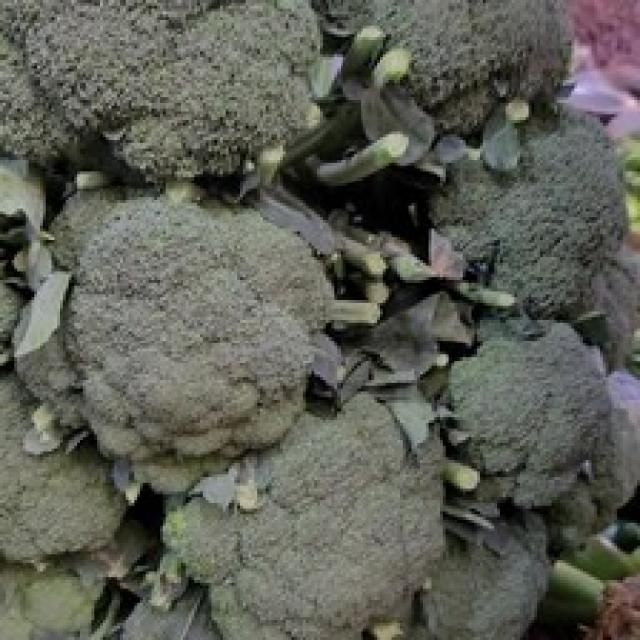Broccoli: (162, 392, 444, 640), (65, 200, 332, 459), (0, 0, 320, 181), (450, 322, 610, 507), (364, 0, 570, 134), (492, 114, 625, 318), (0, 372, 126, 561), (0, 372, 126, 561), (412, 510, 548, 639), (0, 560, 105, 639)
